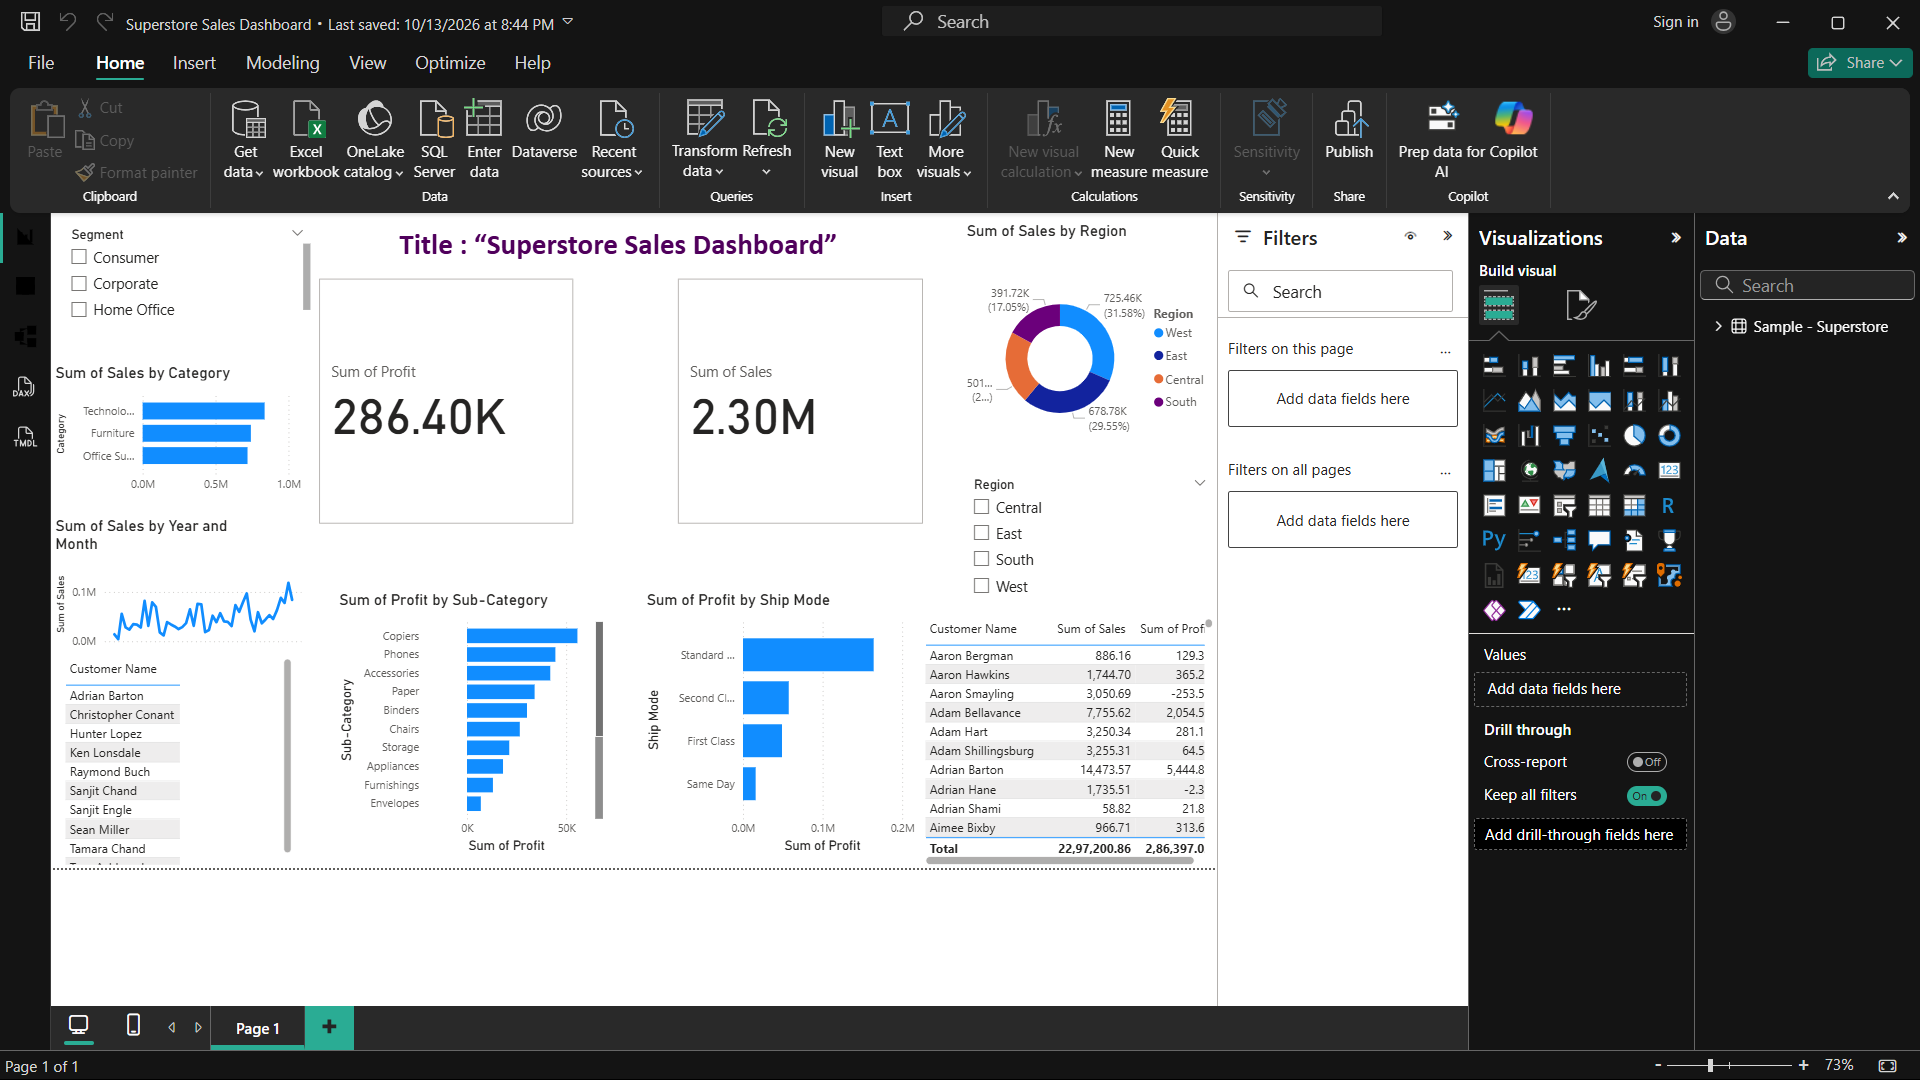

This screenshot's page, from the dashboard's own definition file:
{"tool":"powerbi","page":{"name":"Page 1","canvas":[1280,720],"ordinal":0},"visuals":[{"type":"cardVisual","fields":{"Data":["Sum(Sample - Superstore.Sales)"]},"box":[683.4,67.2,279.9,279.9],"z":0},{"type":"cardVisual","fields":{"Data":["Sum(Sample - Superstore.Profit)"]},"box":[289.5,67.2,289.5,279.9],"z":1},{"type":"clusteredBarChart","fields":{"Category":["Sample - Superstore.Category"],"Y":["Sum(Sample - Superstore.Sales)"]},"box":[0,164.7,279.9,150.9],"z":2},{"type":"lineChart","fields":{"Y":["Sum(Sample - Superstore.Sales)"],"Category":["Sample - Superstore.Order Date.Variation.Date Hierarchy.Year","Sample - Superstore.Order Date.Variation.Date Hierarchy.Month"]},"box":[0,333.4,279.9,150.9],"z":3},{"type":"slicer","fields":{"Values":["Sample - Superstore.Segment"]},"box":[9.6,9.6,279.9,113.9],"z":4},{"type":"slicer","fields":{"Values":["Sample - Superstore.Region"]},"box":[1000.3,284,279.9,150.9],"z":5},{"type":"clusteredBarChart","fields":{"Category":["Sample - Superstore.Sub-Category"],"Y":["Sum(Sample - Superstore.Profit)"]},"box":[311.5,414.4,299.1,293.7],"z":6},{"type":"donutChart","fields":{"Category":["Sample - Superstore.Region"],"Y":["Sum(Sample - Superstore.Sales)"]},"box":[1000.3,9.6,279.9,279.9],"z":7},{"type":"tableEx","fields":{"Values":["Sample - Superstore.Customer Name","Sum(Sample - Superstore.Sales)","Sum(Sample - Superstore.Profit)"]},"box":[953.7,440.5,326.6,279.9],"z":8},{"type":"tableEx","fields":{"Values":["Sample - Superstore.Customer Name"]},"box":[9.6,484.4,259.3,236],"z":9},{"type":"textbox","box":[377.4,9.6,542,49.4],"z":10},{"type":"clusteredBarChart","fields":{"Y":["Sum(Sample - Superstore.Profit)"],"Category":["Sample - Superstore.Ship Mode"]},"box":[649.1,414.4,304.6,293.7],"z":11}]}

Visuals, with their boxes on the page's 1280x720 design canvas (x1, y1, x2, y2). These are canvas units, not pixel positions in the 1920x1080 screenshot, which may show the page scaled, cropped or inside an application window:
cardVisual - Sum(Sample - Superstore.Sales): left=683, top=67, right=963, bottom=347
cardVisual - Sum(Sample - Superstore.Profit): left=290, top=67, right=579, bottom=347
clusteredBarChart - Sample - Superstore.Category x Sum(Sample - Superstore.Sales): left=0, top=165, right=280, bottom=316
lineChart - Sum(Sample - Superstore.Sales) x Sample - Superstore.Order Date.Variation.Date Hierarchy.Year: left=0, top=333, right=280, bottom=484
slicer - Sample - Superstore.Segment: left=10, top=10, right=290, bottom=124
slicer - Sample - Superstore.Region: left=1000, top=284, right=1280, bottom=435
clusteredBarChart - Sample - Superstore.Sub-Category x Sum(Sample - Superstore.Profit): left=312, top=414, right=611, bottom=708
donutChart - Sample - Superstore.Region x Sum(Sample - Superstore.Sales): left=1000, top=10, right=1280, bottom=290
tableEx - Sample - Superstore.Customer Name x Sum(Sample - Superstore.Sales): left=954, top=440, right=1280, bottom=720
tableEx - Sample - Superstore.Customer Name: left=10, top=484, right=269, bottom=720
textbox: left=377, top=10, right=919, bottom=59
clusteredBarChart - Sum(Sample - Superstore.Profit) x Sample - Superstore.Ship Mode: left=649, top=414, right=954, bottom=708
